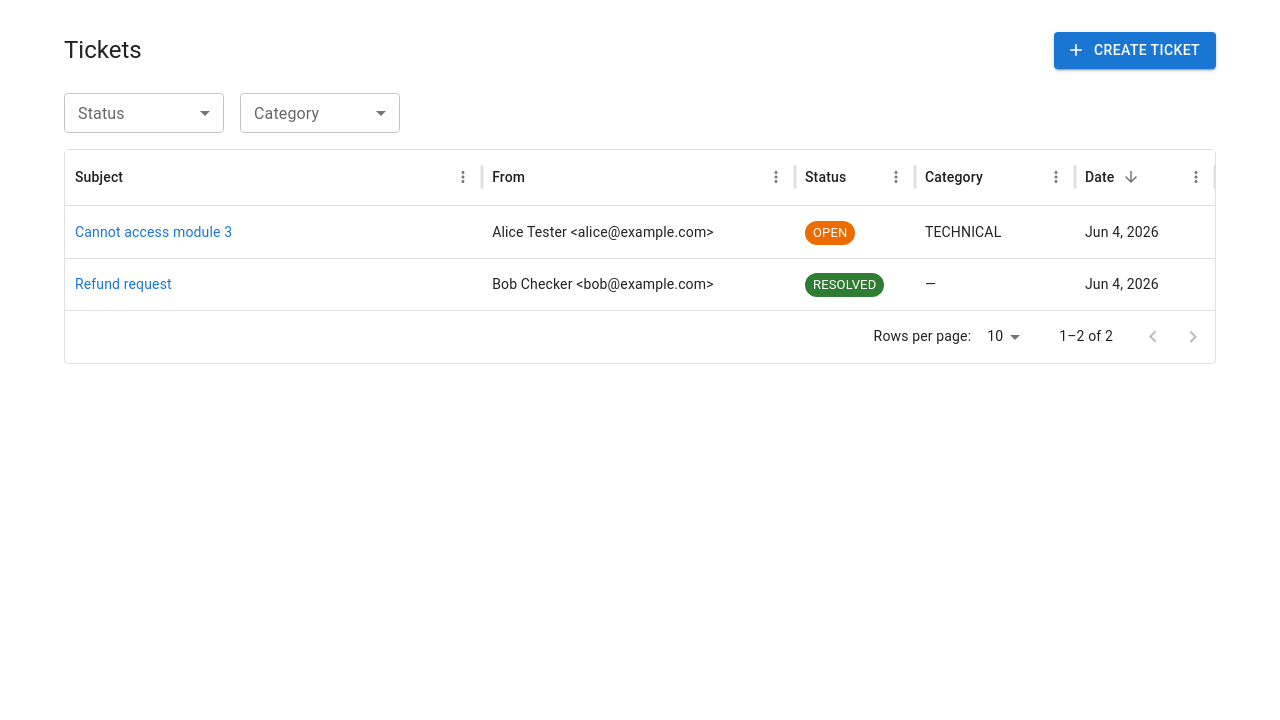
Test: TicketsPage › "Create Ticket" dialog › opens the dialog when "Create Ticket" is clicked
Expected: the link "Cannot access module 3" is shown, [75,224,232,240]
Step 1. Click the button "Create Ticket" → {"x": 1135, "y": 50}, box [1054,32,1216,68]
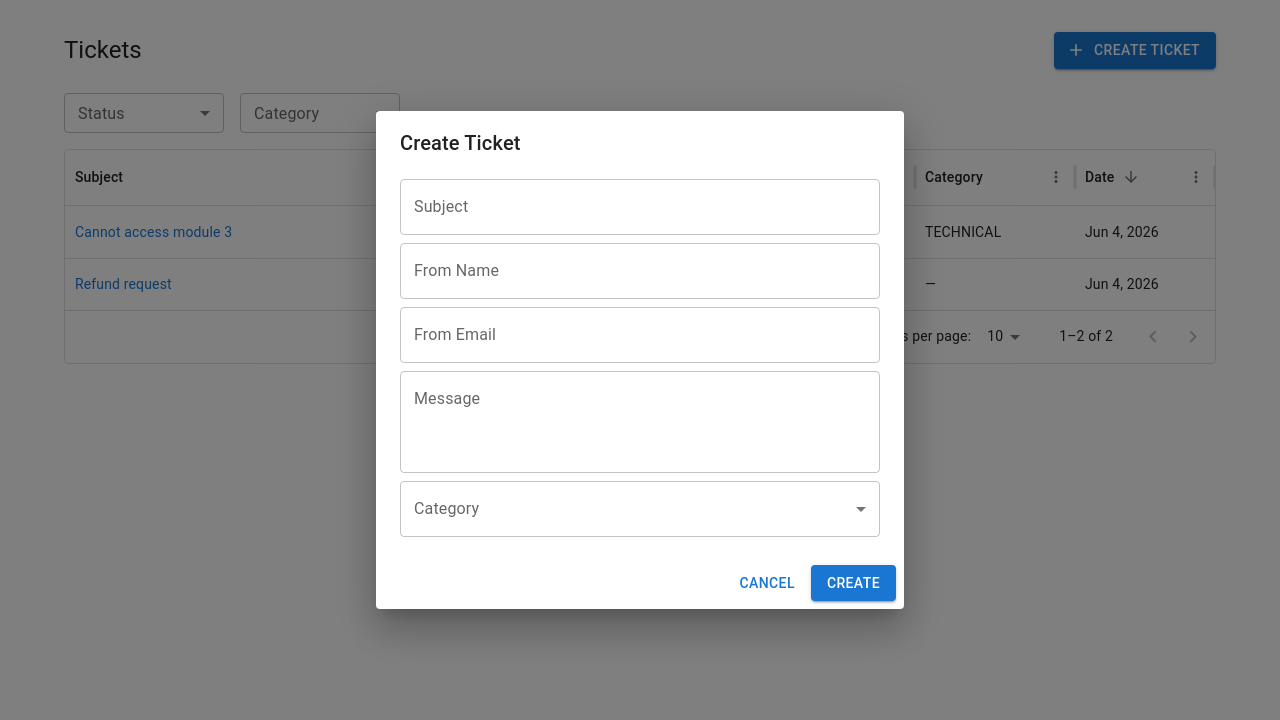
Now the dialog is shown, box [376,111,904,609]
Now the heading "Create Ticket" is shown, box [400,131,521,155]
